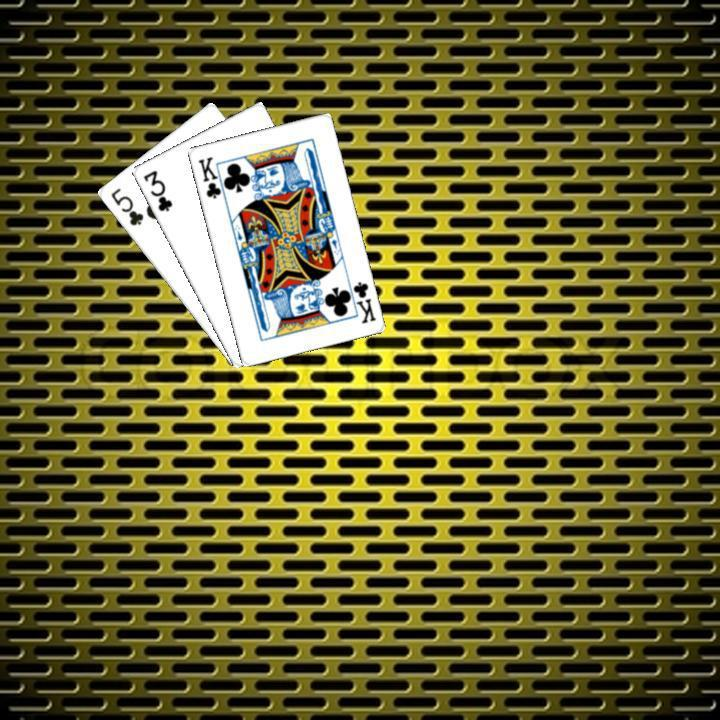3: (138, 166, 174, 213)
5: (106, 184, 145, 228)
K: (193, 152, 228, 202), (342, 275, 377, 325)
